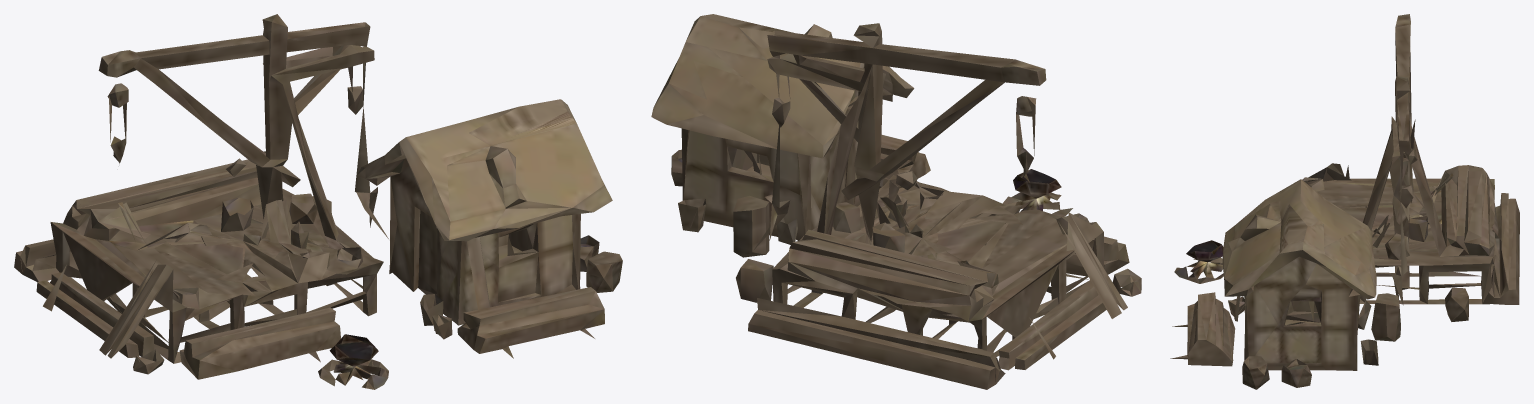
Rendered from dock_lod1.glb.
3 views of the same model, side by side, from view 1: azimuth 30°, elevation 25°; view 2: azimuth 150°, elevation 25°; view 3: azimuth 270°, elevation 25° (orthographic). The views are drawn at different scales.
Visible parts, largest first — view 1: Mesh_0; view 2: Mesh_0; view 3: Mesh_0.
Boxes of the visible parts, x1,y1,x2,y2 form: Mesh_0: (14, 14, 622, 389); Mesh_0: (651, 14, 1141, 389); Mesh_0: (1170, 14, 1519, 389).
Bounding box in the file's own units: 1.9 × 1.02 × 1.53.
Materials: 1 (1 with a texture image).
